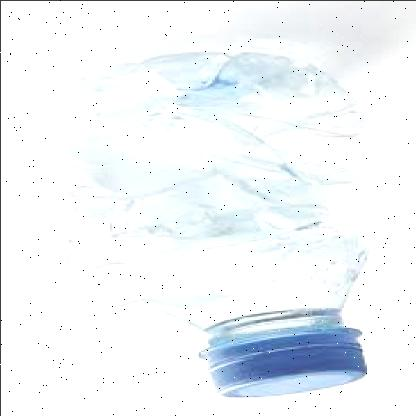Plastic Bottle: (41, 50, 380, 400)
